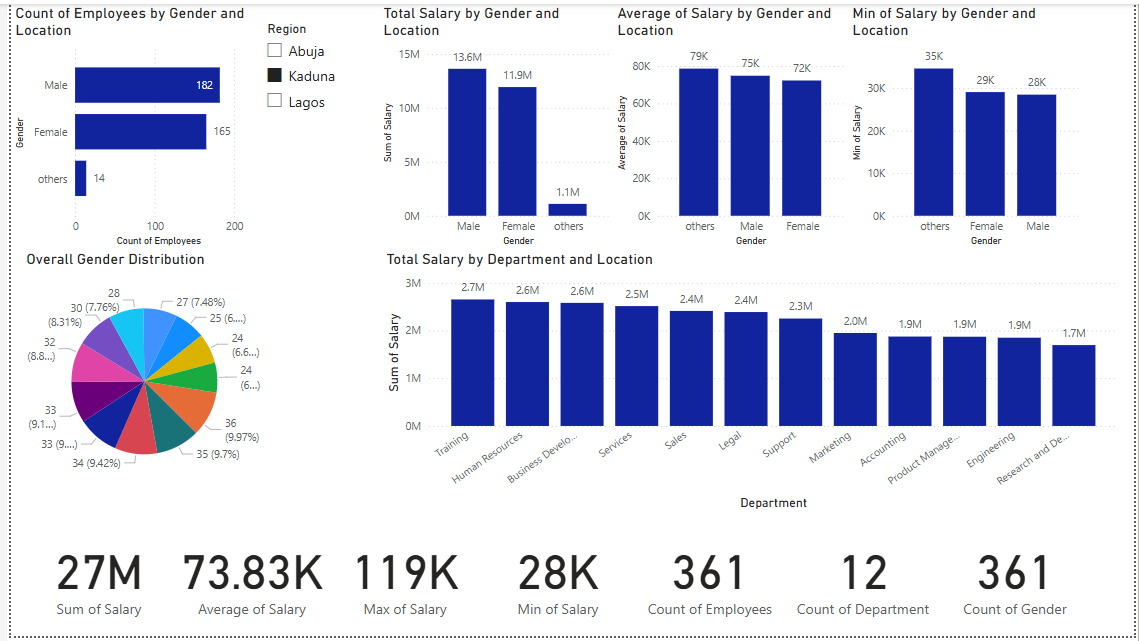

This screenshot's page, from the dashboard's own definition file:
{"tool":"powerbi","page":{"name":"Page 1","canvas":[1280,720],"ordinal":0},"visuals":[{"type":"clusteredBarChart","fields":{"Category":["Palmoria Group emp-data.Gender"],"Y":["CountNonNull(Palmoria Group emp-data.Employees)"],"Series":["Palmoria Group emp-data.Location"]},"box":[0,0,278.9,280.3],"z":0},{"type":"pieChart","title":"Overall Gender Distribution","fields":{"Y":["CountNonNull(Palmoria Group emp-data.Gender)"],"Category":["Palmoria Group emp-data.Department"]},"box":[12.1,280.3,278.9,280.3],"z":1000},{"type":"slicer","fields":{"Values":["Palmoria Group emp-data.Location"]},"box":[278.9,14.8,278.9,149.6],"z":2000},{"type":"clusteredColumnChart","title":"Total Salary by Gender and Location","fields":{"Category":["Palmoria Group emp-data.Gender"],"Y":["Sum(Palmoria Group emp-data.Salary)"],"Series":["Palmoria Group emp-data.Location"]},"box":[419,0,266.8,280.3],"z":3000},{"type":"clusteredColumnChart","fields":{"Category":["Palmoria Group emp-data.Gender"],"Y":["Avg(Palmoria Group emp-data.Salary)"],"Series":["Palmoria Group emp-data.Location"]},"box":[685.8,0,268.1,280.3],"z":4000},{"type":"clusteredColumnChart","fields":{"Category":["Palmoria Group emp-data.Gender"],"Y":["Min(Palmoria Group emp-data.Salary)"],"Series":["Palmoria Group emp-data.Location"]},"box":[953.9,0,268.1,280.3],"z":5000},{"type":"clusteredColumnChart","title":"Total Salary by Department and Location","fields":{"Y":["Sum(Palmoria Group emp-data.Salary)"],"Category":["Palmoria Group emp-data.Department"],"Series":["Palmoria Group emp-data.Location"]},"box":[423.1,280.3,843.5,300.5],"z":6000},{"type":"card","fields":{"Values":["Sum(Palmoria Group emp-data.Salary)"]},"box":[12.1,580.7,175.2,138.8],"z":7000},{"type":"card","fields":{"Values":["Avg(Palmoria Group emp-data.Salary)"]},"box":[187.3,580.7,175.2,138.8],"z":8000},{"type":"card","fields":{"Values":["Max(Palmoria Group emp-data.Salary)"]},"box":[361.1,580.7,175.2,138.8],"z":9000},{"type":"card","fields":{"Values":["Min(Palmoria Group emp-data.Salary)"]},"box":[534.9,580.7,175.2,138.8],"z":10000},{"type":"card","fields":{"Values":["CountNonNull(Palmoria Group emp-data.Employees)"]},"box":[708.7,580.7,175.2,138.8],"z":11000},{"type":"card","fields":{"Values":["Count(Palmoria Group emp-data.Department)"]},"box":[882.5,580.7,175.2,138.8],"z":12000},{"type":"card","fields":{"Values":["CountNonNull(Palmoria Group emp-data.Gender)"]},"box":[1056.3,580.7,175.2,138.8],"z":13000}]}

Visuals, with their boxes in screenshot pixels (x1, y1, x2, y2), scaled from the page's 1280x720 canvas onto the 1139x641 screenshot:
clusteredBarChart - Palmoria Group emp-data.Gender x CountNonNull(Palmoria Group emp-data.Employees): box=[0, 0, 248, 250]
"Overall Gender Distribution" pieChart: box=[11, 250, 259, 499]
slicer - Palmoria Group emp-data.Location: box=[248, 13, 496, 146]
"Total Salary by Gender and Location" clusteredColumnChart: box=[373, 0, 610, 250]
clusteredColumnChart - Palmoria Group emp-data.Gender x Avg(Palmoria Group emp-data.Salary): box=[610, 0, 849, 250]
clusteredColumnChart - Palmoria Group emp-data.Gender x Min(Palmoria Group emp-data.Salary): box=[849, 0, 1087, 250]
"Total Salary by Department and Location" clusteredColumnChart: box=[376, 250, 1127, 517]
card - Sum(Palmoria Group emp-data.Salary): box=[11, 517, 167, 640]
card - Avg(Palmoria Group emp-data.Salary): box=[167, 517, 323, 640]
card - Max(Palmoria Group emp-data.Salary): box=[321, 517, 477, 640]
card - Min(Palmoria Group emp-data.Salary): box=[476, 517, 632, 640]
card - CountNonNull(Palmoria Group emp-data.Employees): box=[631, 517, 787, 640]
card - Count(Palmoria Group emp-data.Department): box=[785, 517, 941, 640]
card - CountNonNull(Palmoria Group emp-data.Gender): box=[940, 517, 1096, 640]
